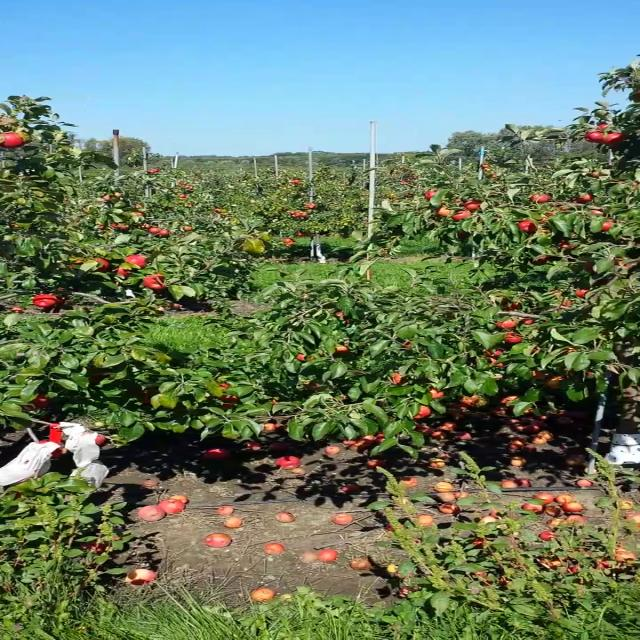apple: (36, 439, 62, 459), (32, 292, 63, 306), (449, 394, 480, 408), (125, 389, 153, 403), (0, 132, 25, 146), (143, 272, 164, 288), (492, 392, 520, 402), (124, 254, 146, 266), (502, 331, 522, 344), (546, 375, 564, 389), (413, 404, 431, 418), (612, 257, 634, 268), (220, 395, 237, 409), (603, 133, 622, 145), (518, 220, 537, 232), (585, 130, 603, 142), (84, 375, 110, 383), (463, 199, 483, 209), (556, 240, 576, 250), (496, 319, 516, 329), (94, 257, 108, 271), (580, 261, 596, 273), (32, 396, 48, 408), (481, 348, 500, 358), (530, 369, 549, 379), (530, 193, 548, 203), (452, 210, 470, 220), (530, 255, 548, 265), (502, 298, 519, 308), (114, 266, 130, 276), (456, 230, 470, 240), (262, 422, 276, 432), (296, 353, 313, 361), (577, 194, 593, 202), (438, 206, 450, 216), (96, 434, 106, 446), (575, 289, 589, 297), (430, 389, 444, 397), (601, 220, 612, 230), (392, 372, 403, 382), (491, 358, 504, 366), (590, 209, 604, 215), (334, 346, 348, 352), (425, 190, 435, 198), (334, 309, 342, 317), (522, 318, 532, 324), (218, 383, 228, 389), (72, 260, 86, 264), (598, 123, 607, 129), (562, 300, 570, 306), (584, 372, 594, 376), (404, 342, 411, 346)
